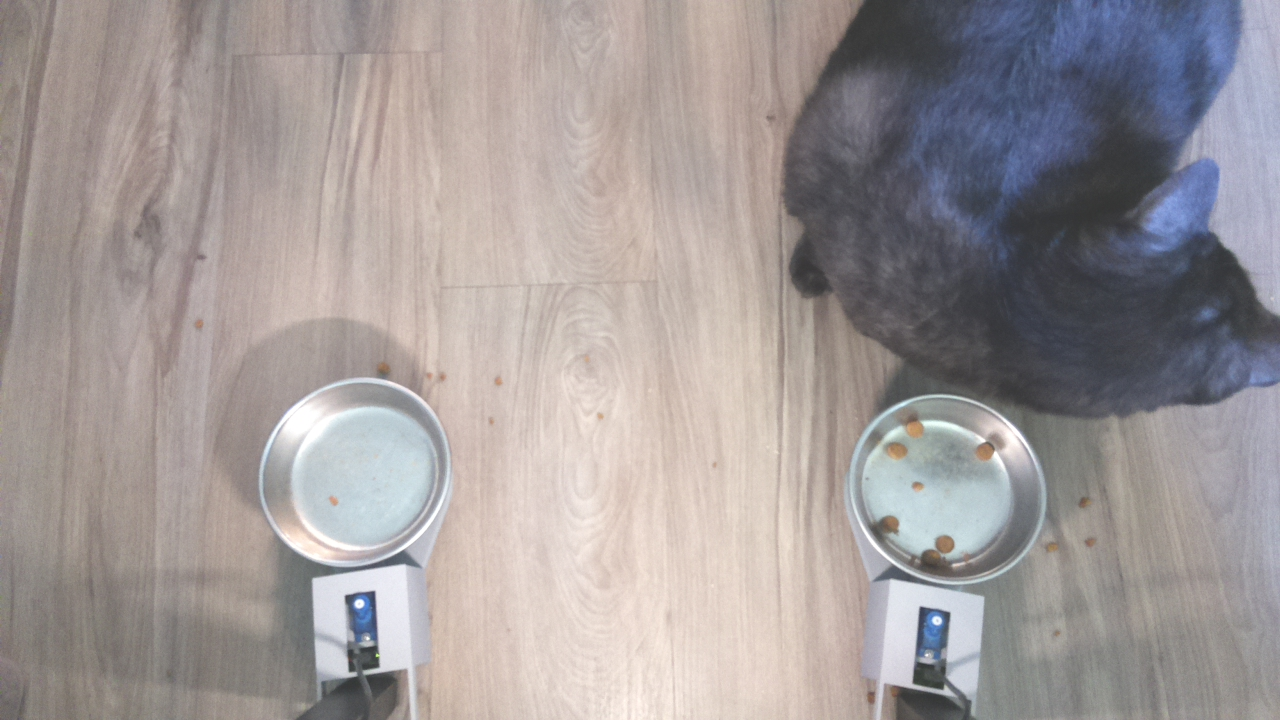open_bowl: (849, 389, 1058, 587), (257, 373, 450, 566)
saki: (1018, 147, 1280, 426)
